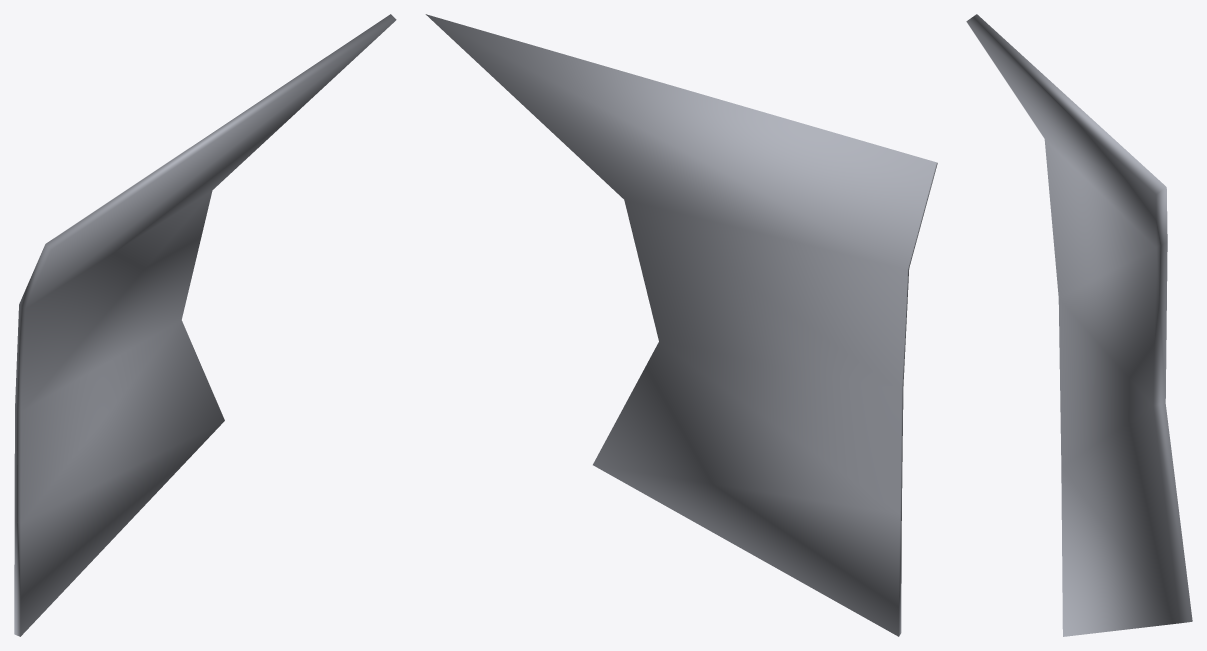
Rendered from Ship5.fbx.
The picture shows the model from 3 angles, left to right: view 1: azimuth 30°, elevation 25°; view 2: azimuth 150°, elevation 25°; view 3: azimuth 270°, elevation 25°; orthographic projection. The views are drawn at different scales.
Visible parts, largest first — view 1: Cube.004; view 2: Cube.004; view 3: Cube.004.
Boxes of the visible parts, x1,y1,x2,y2 form: Cube.004: (14,14,396,636); Cube.004: (425,14,937,636); Cube.004: (966,14,1192,636).
Size of the model in its own units: 54.37 by 17.34 by 62.99.
